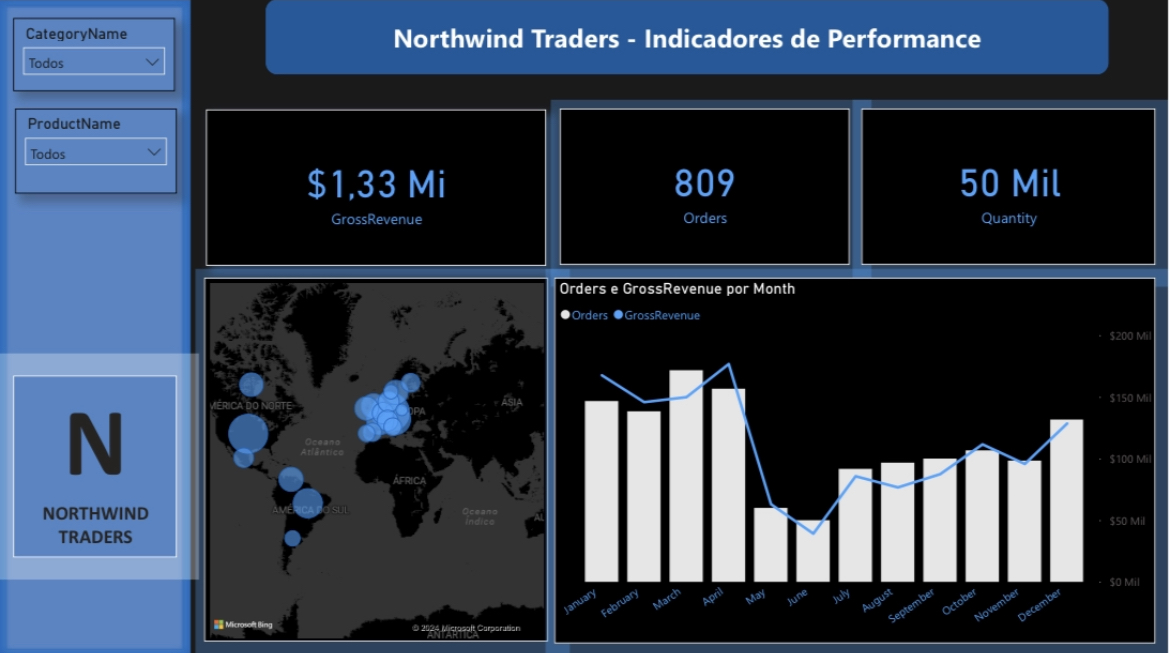

The dashboard page shown, as its layout file describes it:
{"tool":"powerbi","page":{"name":"Overview","canvas":[1280,720],"ordinal":0},"visuals":[{"type":"card","fields":{"Values":["Sum(Order_Details.GrossRevenue)"]},"box":[226.6,121.3,371.9,171.1],"z":0,"group":"g1"},{"type":"group","id":"g1","title":"Group 1","box":[224.6,120.5,1041.3,584.7],"z":0},{"type":"shape","box":[291.6,0,923.8,83.3],"z":1000},{"type":"shape","box":[0,0,209.8,720],"z":2000},{"type":"slicer","fields":{"Values":["Product.CategoryName"]},"box":[16.4,20.8,177,80.3],"z":3000},{"type":"slicer","fields":{"Values":["Product.ProductName"]},"box":[17.9,120.5,177,92.2],"z":4000},{"type":"textbox","box":[16.4,412.1,178.5,199.3],"z":5000},{"type":"card","fields":{"Values":["Order_Details.Orders"]},"box":[614,120.5,316.3,171.3],"z":6000,"group":"g1"},{"type":"card","fields":{"Values":["Sum(Order_Details.Quantity)"]},"box":[943.7,120.5,322.3,171.3],"z":8000,"group":"g1"},{"type":"map","fields":{"Category":["Order_Details.Country","Order_Details.City"],"Size":["Sum(Order_Details.NetRevenue)"]},"box":[224.6,305.4,375.7,398.3],"z":10000,"group":"g1"},{"type":"lineClusteredColumnComboChart","fields":{"Category":["Order_Details.OrderDate.Variation.Date Hierarchy.Month"],"Y":["Order_Details.Orders"],"Y2":["Sum(Order_Details.GrossRevenue)"]},"box":[607.7,305.4,657.9,399.8],"z":11000,"group":"g1"}]}

Visuals, with their boxes in screenshot pixels (x1, y1, x2, y2), scaled from the page's 1280x720 canvas onto the 1170x653 screenshot:
card - Sum(Order_Details.GrossRevenue): x1=207 y1=110 x2=547 y2=265
"Group 1" group: x1=205 y1=109 x2=1157 y2=640
shape: x1=267 y1=0 x2=1111 y2=76
shape: x1=0 y1=0 x2=192 y2=652
slicer - Product.CategoryName: x1=15 y1=19 x2=177 y2=92
slicer - Product.ProductName: x1=16 y1=109 x2=178 y2=193
textbox: x1=15 y1=374 x2=178 y2=555
card - Order_Details.Orders: x1=561 y1=109 x2=850 y2=265
card - Sum(Order_Details.Quantity): x1=863 y1=109 x2=1157 y2=265
map - Order_Details.Country x Order_Details.City: x1=205 y1=277 x2=549 y2=638
lineClusteredColumnComboChart - Order_Details.OrderDate.Variation.Date Hierarchy.Month x Order_Details.Orders: x1=555 y1=277 x2=1157 y2=640
